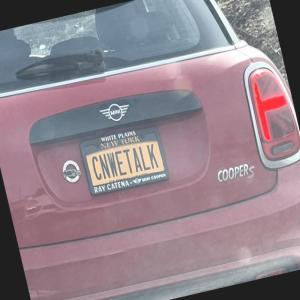Plate: (78, 125, 170, 196)
